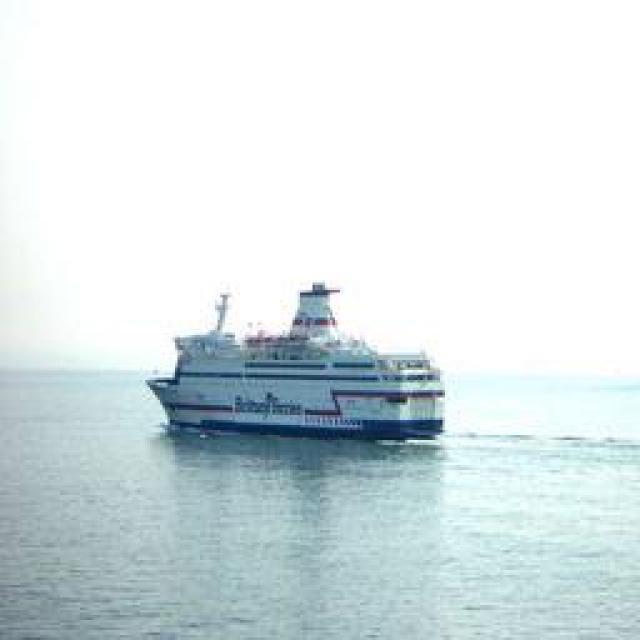Ship: (150, 278, 458, 446)
